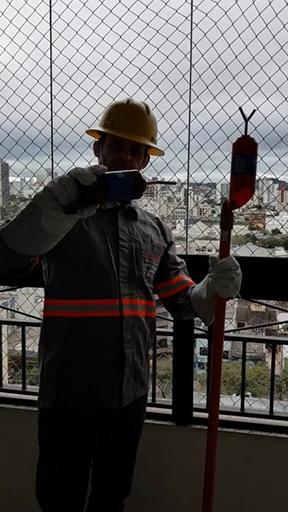Detector_Tensao_Contato: (71, 169, 178, 207), (227, 106, 259, 208)
Vara_Manobra: (204, 208, 234, 512)
